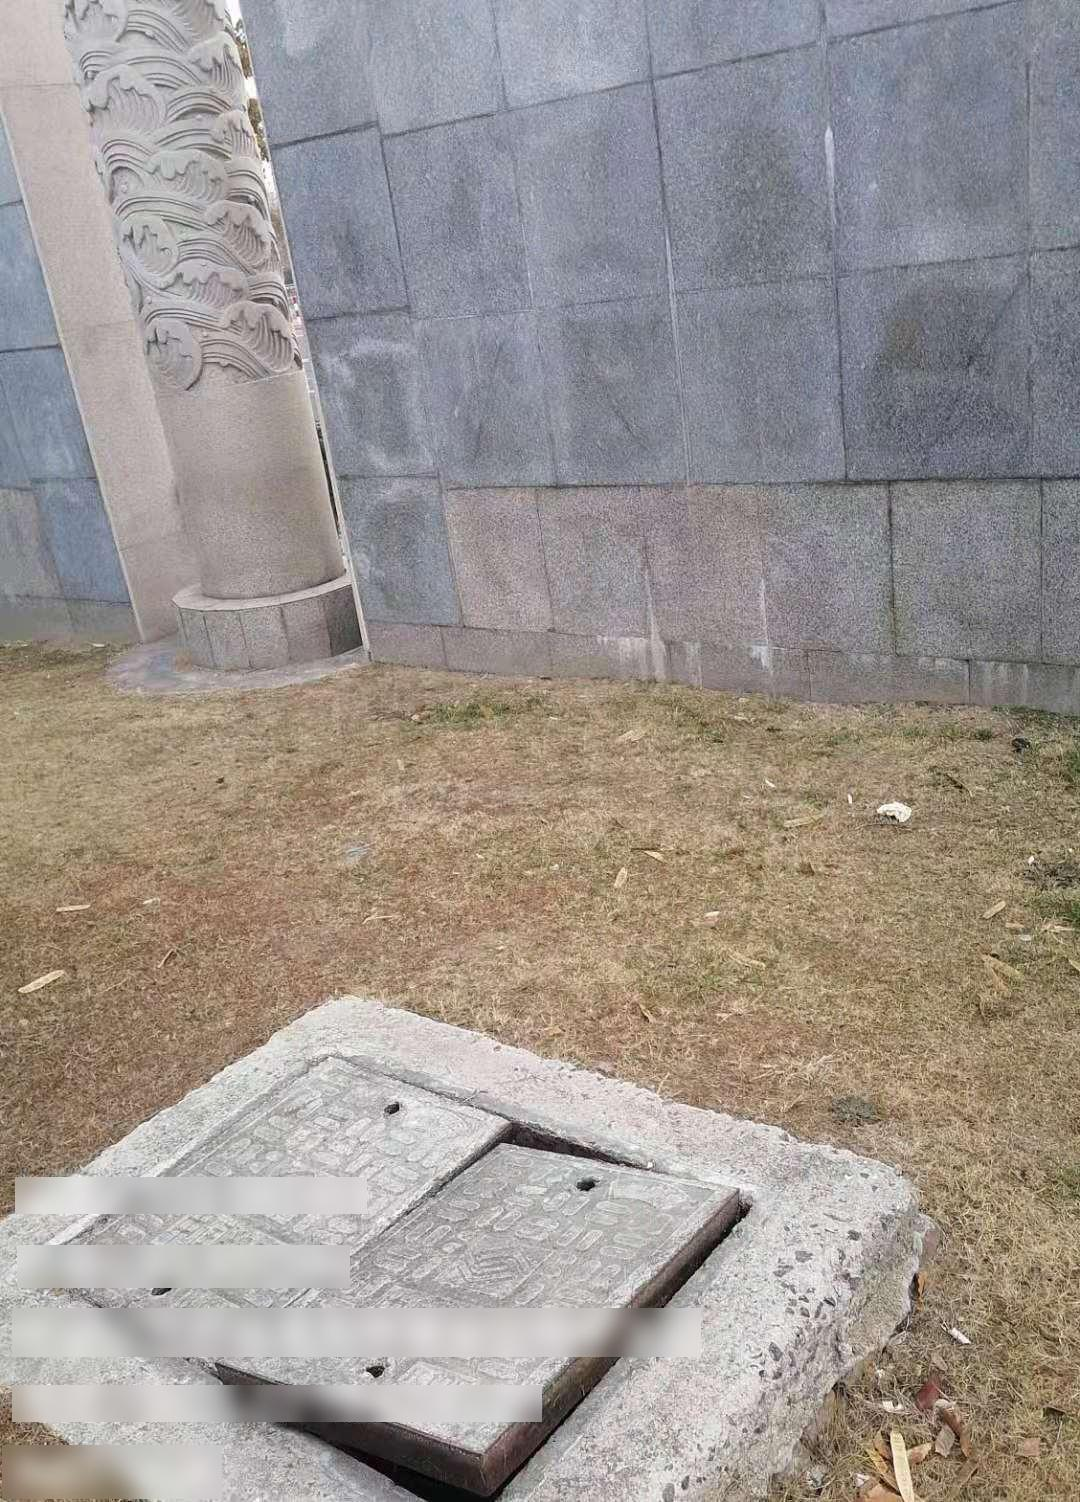wellcover: (13, 966, 825, 1502)
